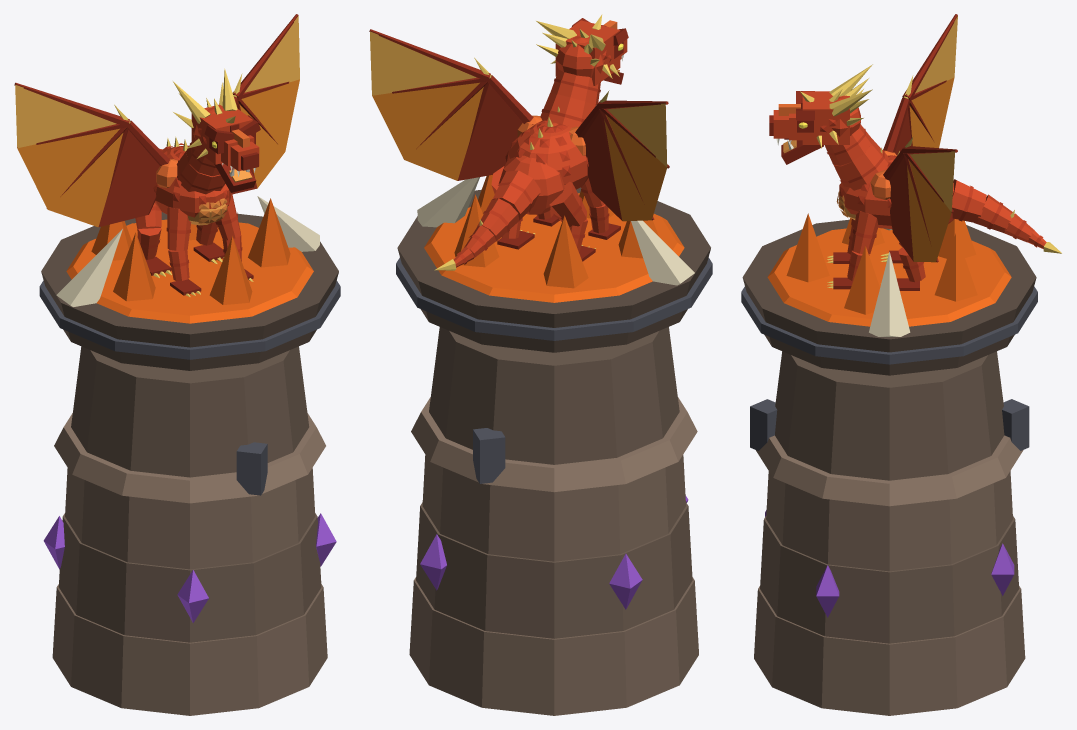
Rendered from tower_flame_l3.glb.
3 renders of one model, left to right at view 1: azimuth 30°, elevation 25°; view 2: azimuth 150°, elevation 25°; view 3: azimuth 270°, elevation 25°, orthographic. The views are drawn at different scales.
Visible parts, largest first — view 1: Body, Turret; view 2: Body, Turret; view 3: Body, Turret.
Boxes of the visible parts, left/top/right/bottom form: Body: left=39, top=196, right=340, bottom=715; Turret: left=14, top=14, right=299, bottom=296; Body: left=396, top=175, right=712, bottom=715; Turret: left=369, top=14, right=669, bottom=270; Body: left=741, top=213, right=1037, bottom=715; Turret: left=769, top=14, right=1061, bottom=290.
Size of the model in its own units: 0.7147 by 1.42 by 0.7108.
